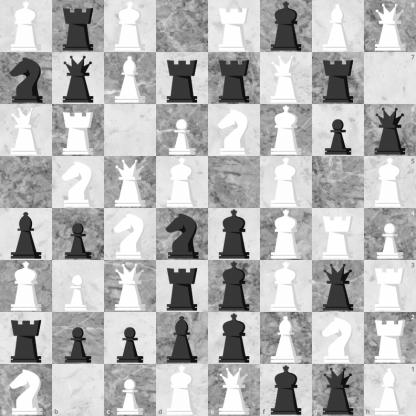B: (364, 364, 416, 416), (105, 53, 156, 104), (261, 313, 312, 364), (313, 1, 364, 52)
K: (156, 364, 209, 416), (364, 156, 416, 209), (1, 1, 52, 52), (1, 261, 52, 312), (105, 1, 156, 52), (157, 157, 208, 208), (261, 105, 312, 156), (261, 157, 312, 208), (261, 209, 312, 260), (261, 261, 312, 312)
N: (0, 364, 52, 416), (53, 157, 104, 208), (105, 209, 156, 260), (209, 105, 260, 156), (313, 313, 364, 364)
P: (104, 364, 156, 416), (364, 209, 416, 260), (53, 261, 104, 312), (157, 105, 208, 156)
Q: (364, 0, 416, 52), (209, 364, 260, 416), (1, 105, 52, 156), (105, 157, 156, 208), (105, 261, 156, 312), (261, 53, 312, 104)
R: (364, 260, 416, 312), (364, 312, 416, 364), (53, 105, 104, 156), (209, 1, 260, 52), (313, 209, 364, 260)
b: (1, 209, 52, 260), (157, 313, 208, 364)
board: (0, 0, 415, 415)
k: (260, 364, 312, 416), (209, 209, 260, 260), (209, 261, 260, 312), (209, 313, 260, 364), (261, 1, 312, 52)
n: (1, 53, 52, 104), (157, 209, 208, 260)
p: (53, 209, 104, 260), (53, 313, 104, 364), (105, 313, 156, 364), (313, 105, 364, 156)
q: (312, 364, 364, 416), (364, 104, 416, 156), (53, 53, 104, 104), (313, 261, 364, 312)
r: (1, 313, 52, 364), (53, 1, 104, 52), (157, 53, 208, 104), (157, 261, 208, 312), (209, 53, 260, 104), (313, 53, 364, 104)
